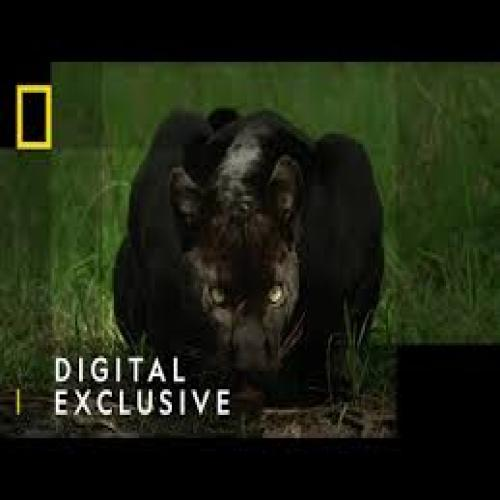panther-endangered: (110, 109, 386, 406)
